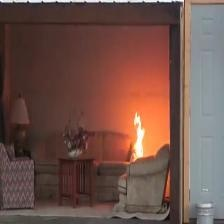fire: (116, 100, 157, 171)
